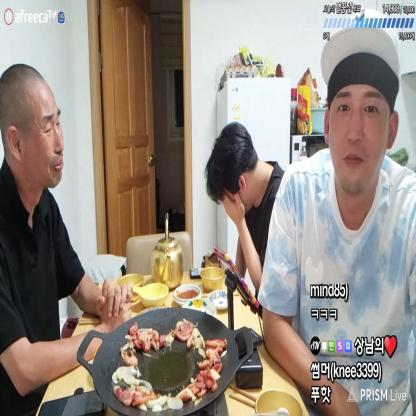streamer: (258, 8, 415, 416), (0, 64, 131, 416), (204, 121, 284, 295)
